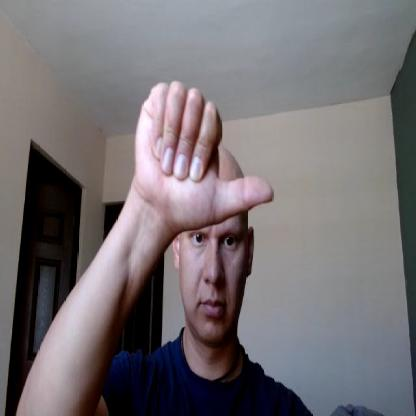A: (134, 80, 274, 234)
